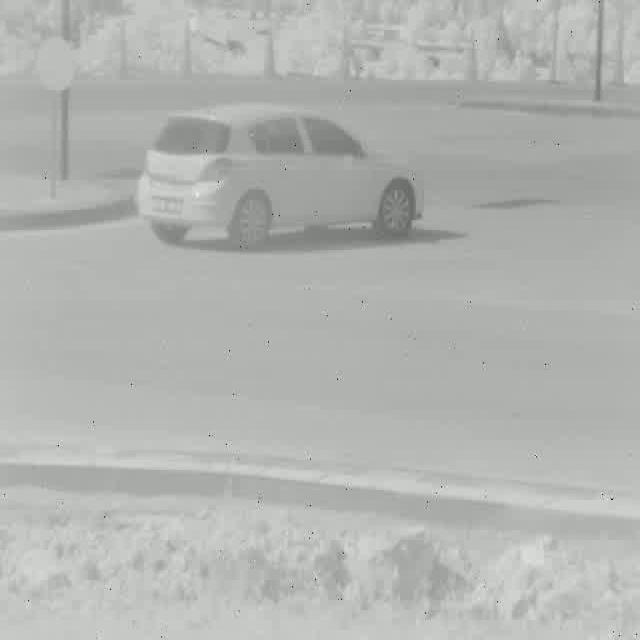Car: (138, 105, 422, 240)
